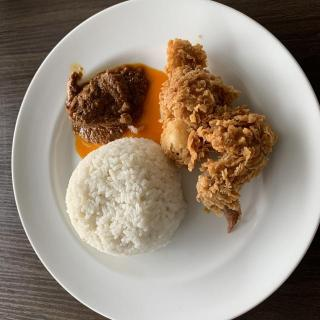Nasi: (69, 138, 188, 258)
